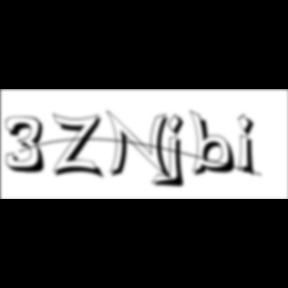3: (6, 116, 52, 176)
N: (106, 109, 176, 183)
Z: (53, 112, 108, 181)
b: (190, 109, 242, 179)
i: (238, 112, 262, 180)
j: (164, 113, 192, 191)
